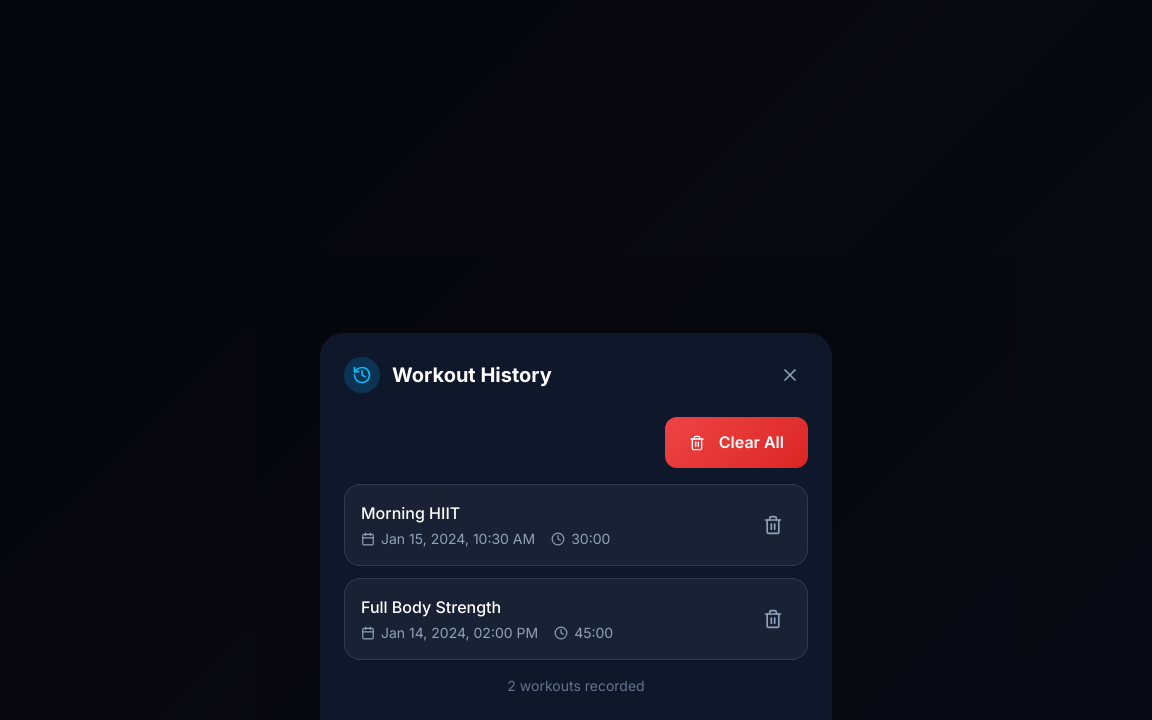
Test: HistoryView › closes delete confirmation dialog when cancel is clicked
// Click delete for first entry
Step 1. Click the button named "delete morning hiit" → (773, 525), box [755,507,791,543]
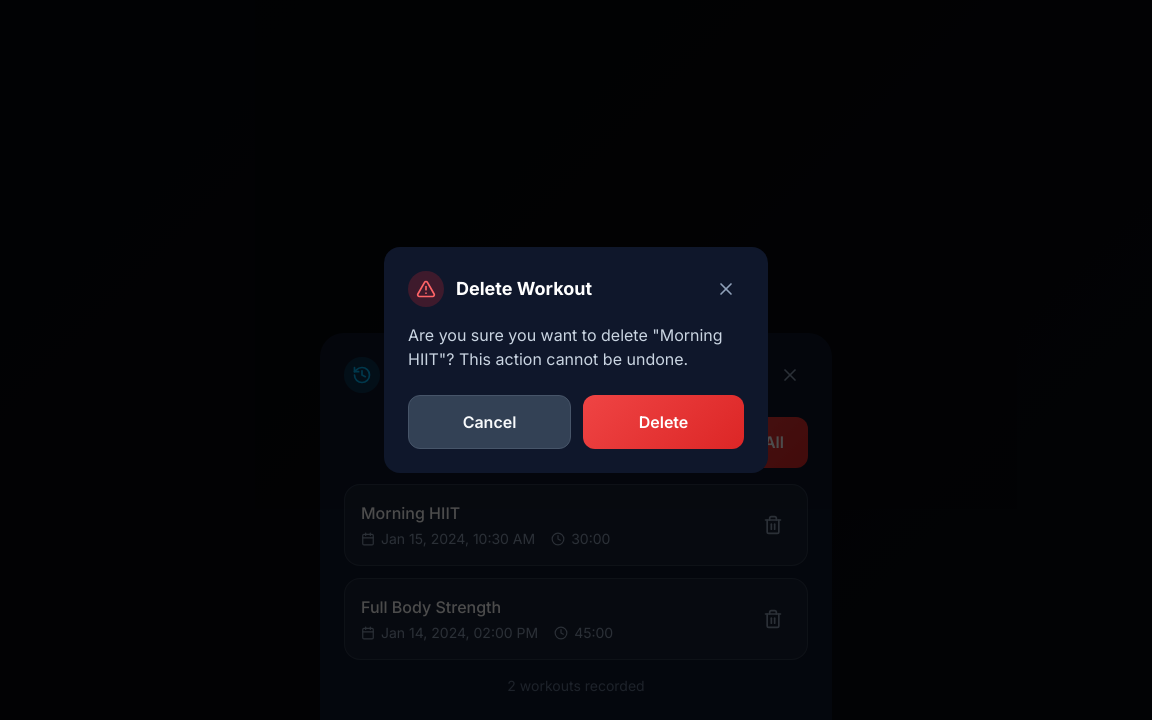
// Cancel deletion
Step 2. Click the button "Cancel" → (490, 422), box [408,395,571,449]
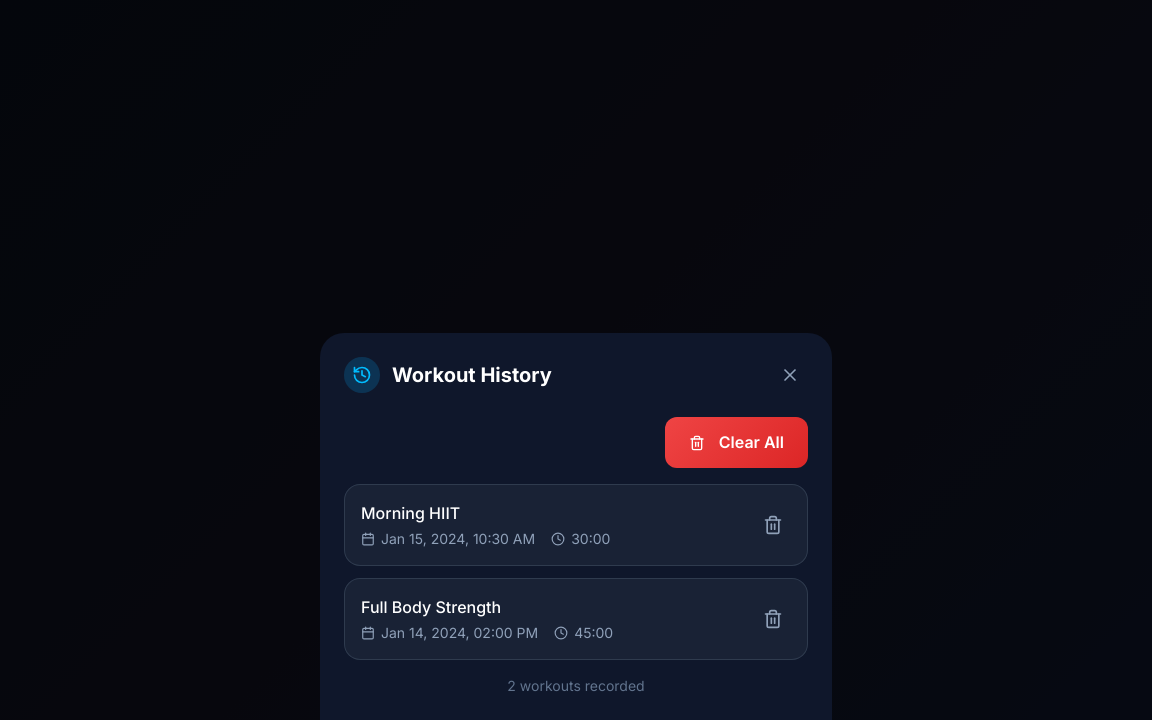
expect the heading "Delete Workout" is gone: met
